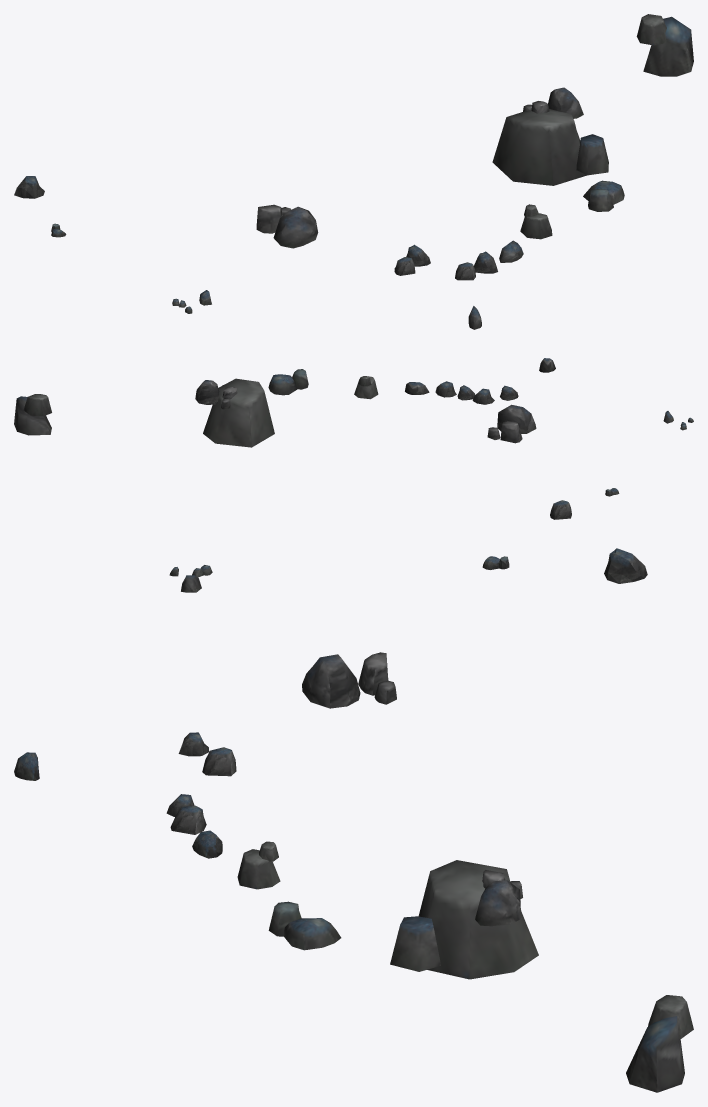
File: shitou08.fbx
The picture shows the model from 3 angles, top to bottom: view 1: azimuth 30°, elevation 25°; view 2: azimuth 150°, elevation 25°; view 3: azimuth 270°, elevation 25°; orthographic projection. The views are drawn at different scales.
Parts seen in each view (by area): view 1: shitou08; view 2: shitou08; view 3: shitou08.
Part boxes in pixels (x1,y1,x2,y2): shitou08: [14, 14, 693, 329]; shitou08: [14, 358, 693, 519]; shitou08: [14, 548, 693, 1092].
Bounding box in the file's own units: 8871 × 792 × 5351.
